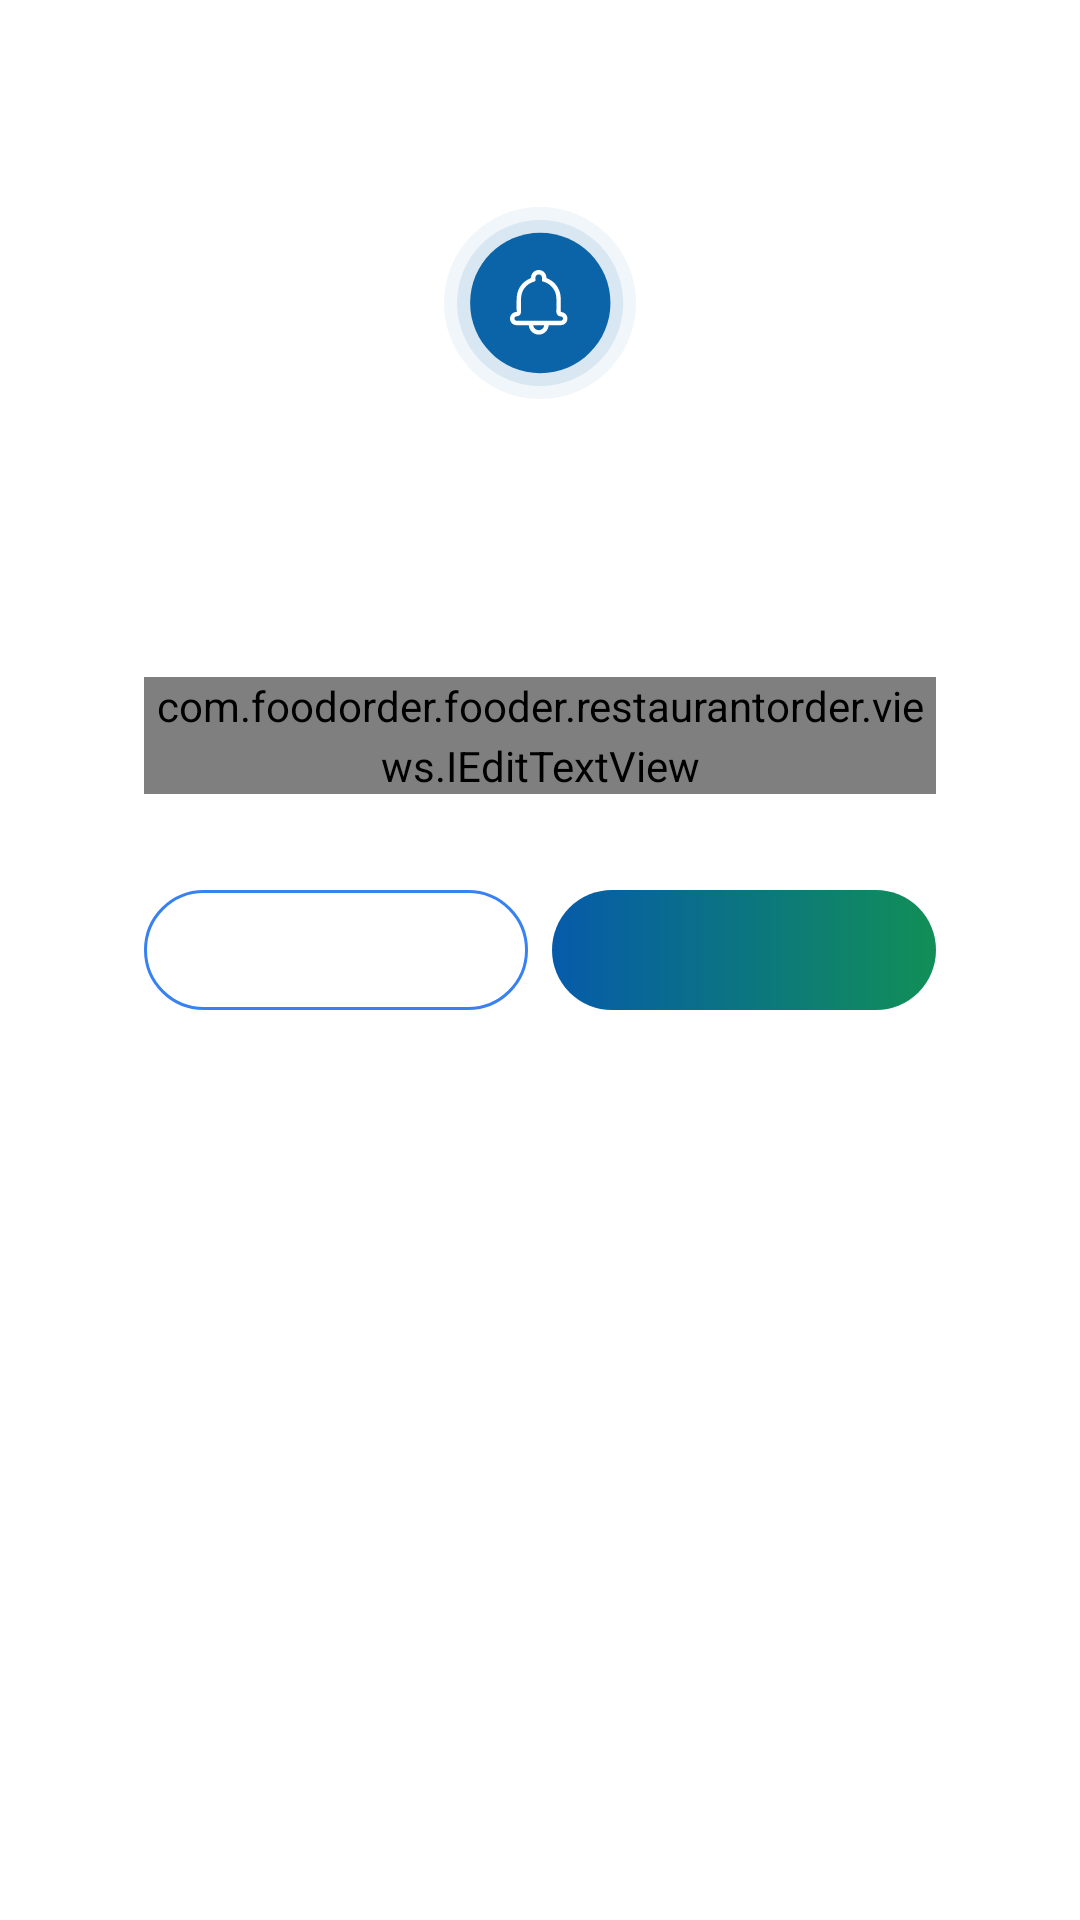

Screen size 1080×1920. Icon name, then its box in pixels as (x1, y1, x2, y2):
notification: (457, 220, 623, 386)
